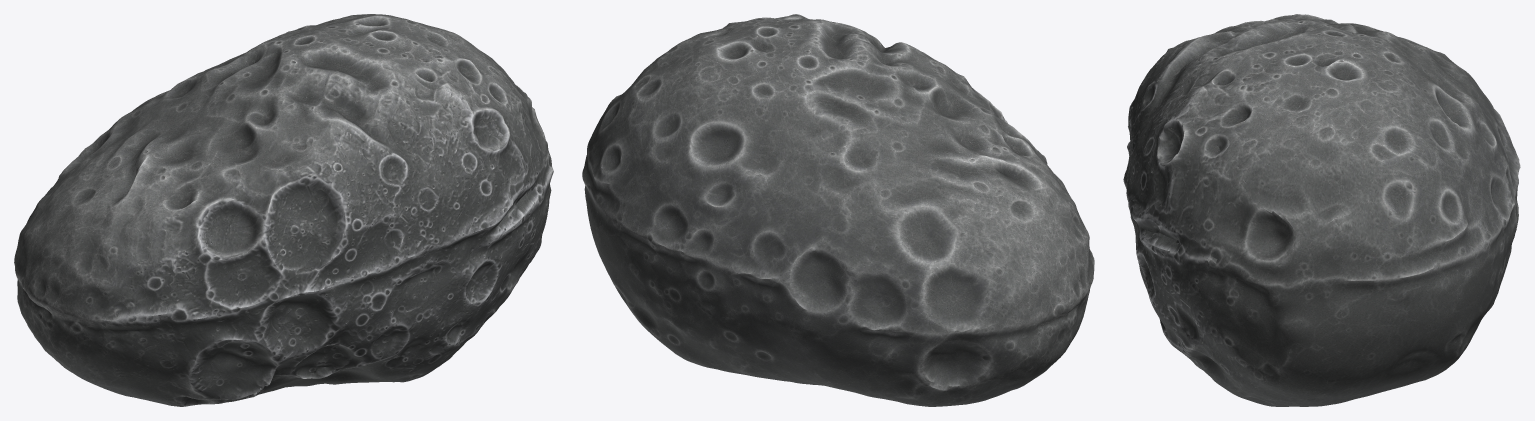
The model's file is Cratered_Potato.glb.
3 views of the same model, side by side, from view 1: azimuth 30°, elevation 25°; view 2: azimuth 150°, elevation 25°; view 3: azimuth 270°, elevation 25° (orthographic). The views are drawn at different scales.
Parts seen in each view (by area): view 1: Mesh_0; view 2: Mesh_0; view 3: Mesh_0.
Boxes of the visible parts, left/top/right/bottom form: Mesh_0: left=14, top=14, right=553, bottom=406; Mesh_0: left=582, top=14, right=1094, bottom=406; Mesh_0: left=1123, top=14, right=1520, bottom=406.
Bounding box in the file's own units: 1.89 × 1.22 × 1.29.
1 material, 1 textured.
